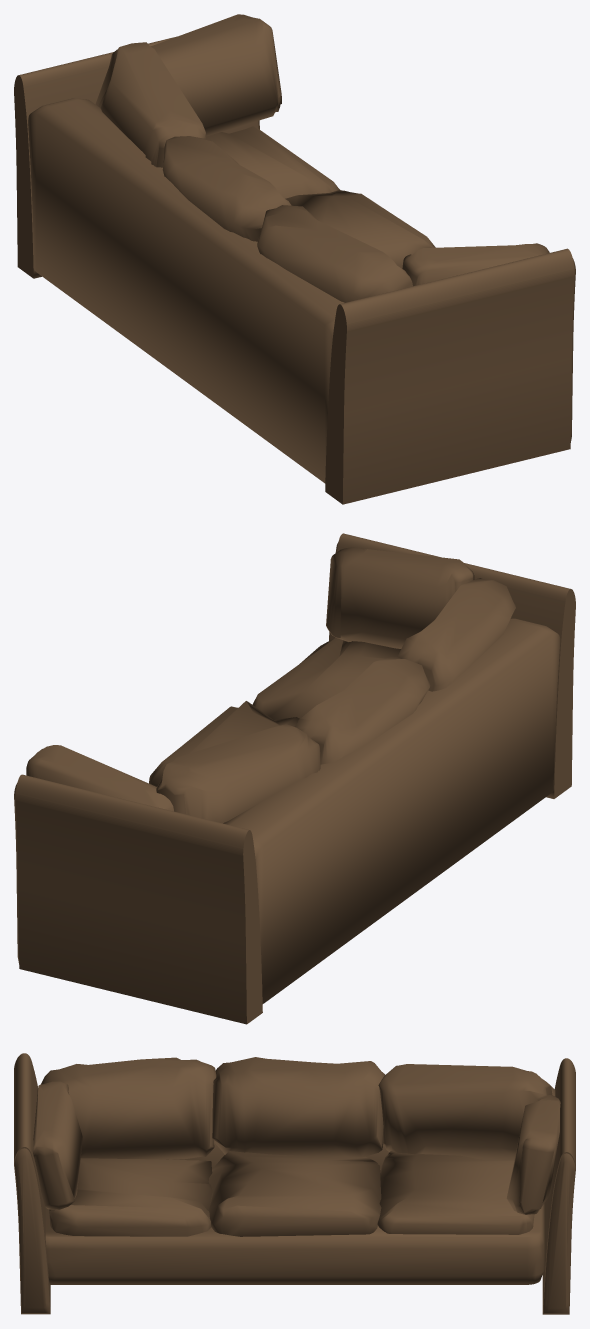
The model's file is leather_sofa.fbx.
3 views of the same model, one above another, from view 1: azimuth 30°, elevation 25°; view 2: azimuth 150°, elevation 25°; view 3: azimuth 270°, elevation 25° (orthographic). The views are drawn at different scales.
Parts seen in each view (by area): view 1: polySurface89; view 2: polySurface89; view 3: polySurface89.
Boxes of the visible parts, box(x1,y1,x2,y2) form: polySurface89: box(14, 14, 575, 504); polySurface89: box(14, 533, 575, 1024); polySurface89: box(14, 1053, 575, 1314).
Bounding box in the file's own units: 78.2 × 68.94 × 190.
